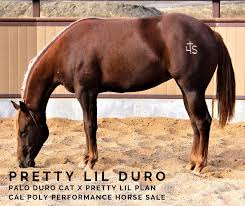Horse: (8, 8, 236, 184)
